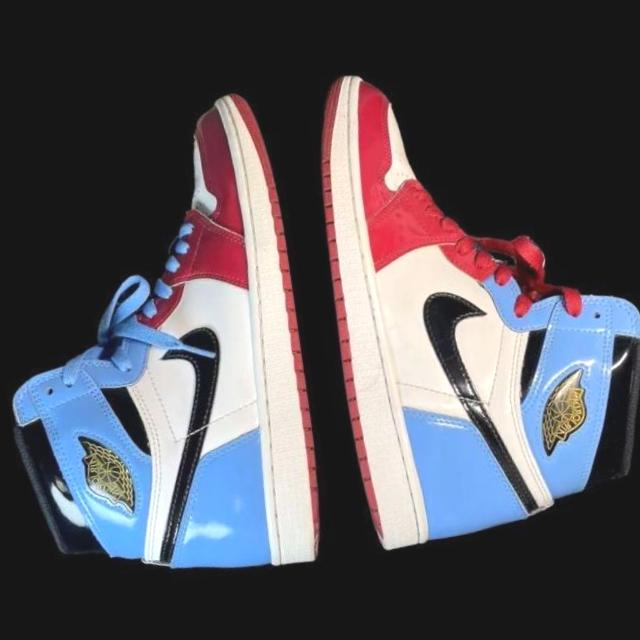nike_original_jordan: (300, 36, 640, 553), (0, 86, 337, 603)
